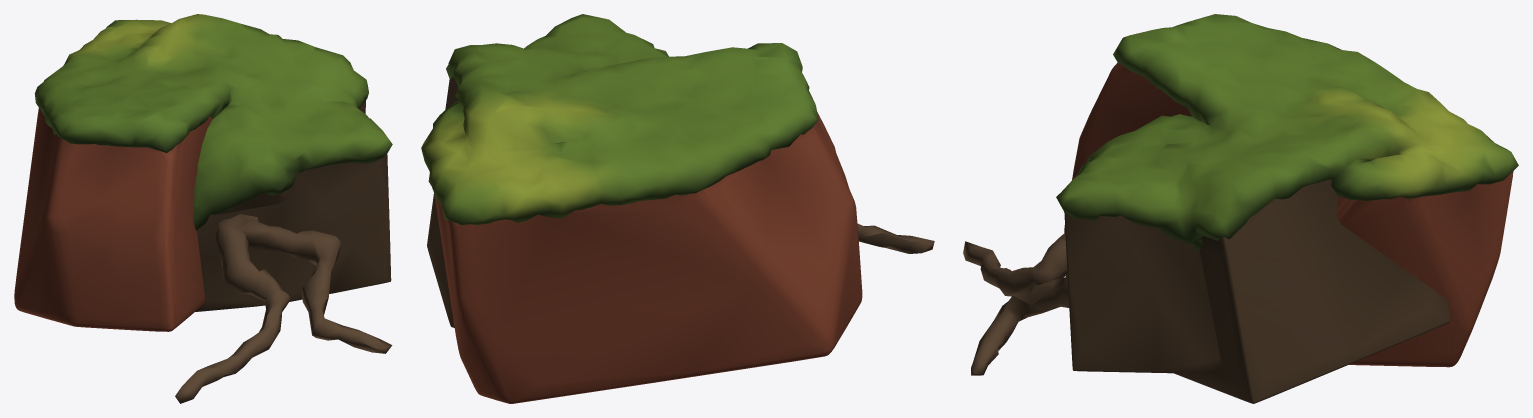
The model's file is mire_peat_clod_a.glb.
3 views of the same model, side by side, from view 1: azimuth 30°, elevation 25°; view 2: azimuth 150°, elevation 25°; view 3: azimuth 270°, elevation 25° (orthographic). The views are drawn at different scales.
Parts seen in each view (by area): view 1: mire_peat_clod_a; view 2: mire_peat_clod_a; view 3: mire_peat_clod_a.
Boxes of the visible parts, x1,y1,x2,y2 form: mire_peat_clod_a: [14, 14, 392, 403]; mire_peat_clod_a: [421, 14, 934, 403]; mire_peat_clod_a: [963, 14, 1518, 403].
Size of the model in its own units: 6.19 by 3.92 by 7.43.
